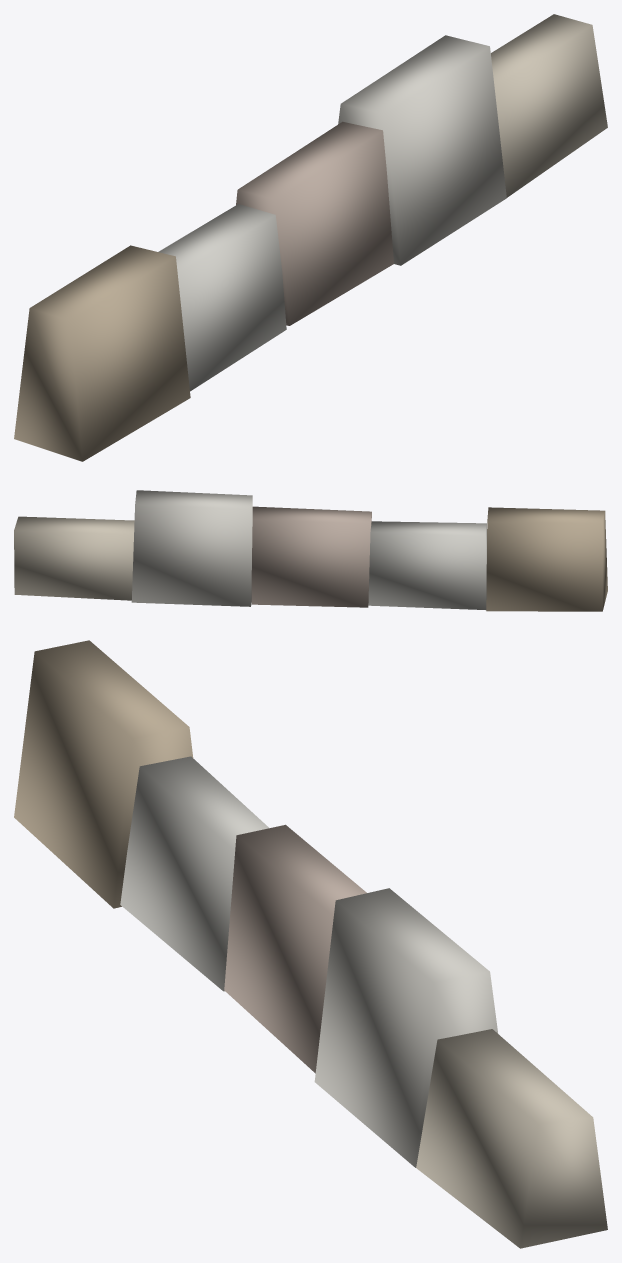
The model's file is farm_8_15_far.glb.
3 views of the same model, one above another, from view 1: azimuth 30°, elevation 25°; view 2: azimuth 150°, elevation 25°; view 3: azimuth 270°, elevation 25° (orthographic). The views are drawn at different scales.
Parts seen in each view (by area): view 1: geometry_0; view 2: geometry_0; view 3: geometry_0.
Part boxes in pixels (x1,y1,x2,y2): geometry_0: (14, 14, 607, 461); geometry_0: (14, 490, 607, 611); geometry_0: (14, 640, 607, 1248).
Size of the model in its own units: 7.16 by 1.34 by 3.99.
